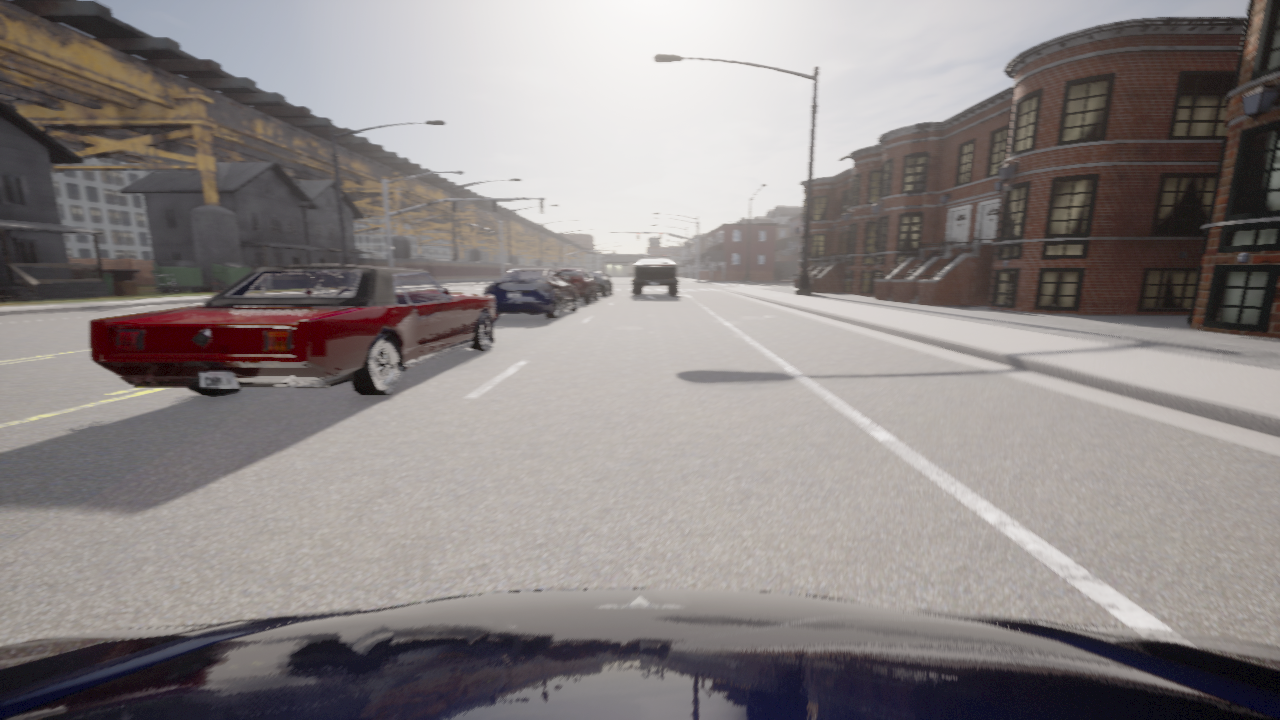cyclist: (0, 588, 1279, 719), (90, 264, 497, 395), (483, 267, 578, 318), (632, 258, 678, 295), (556, 267, 601, 303), (588, 270, 612, 296)
